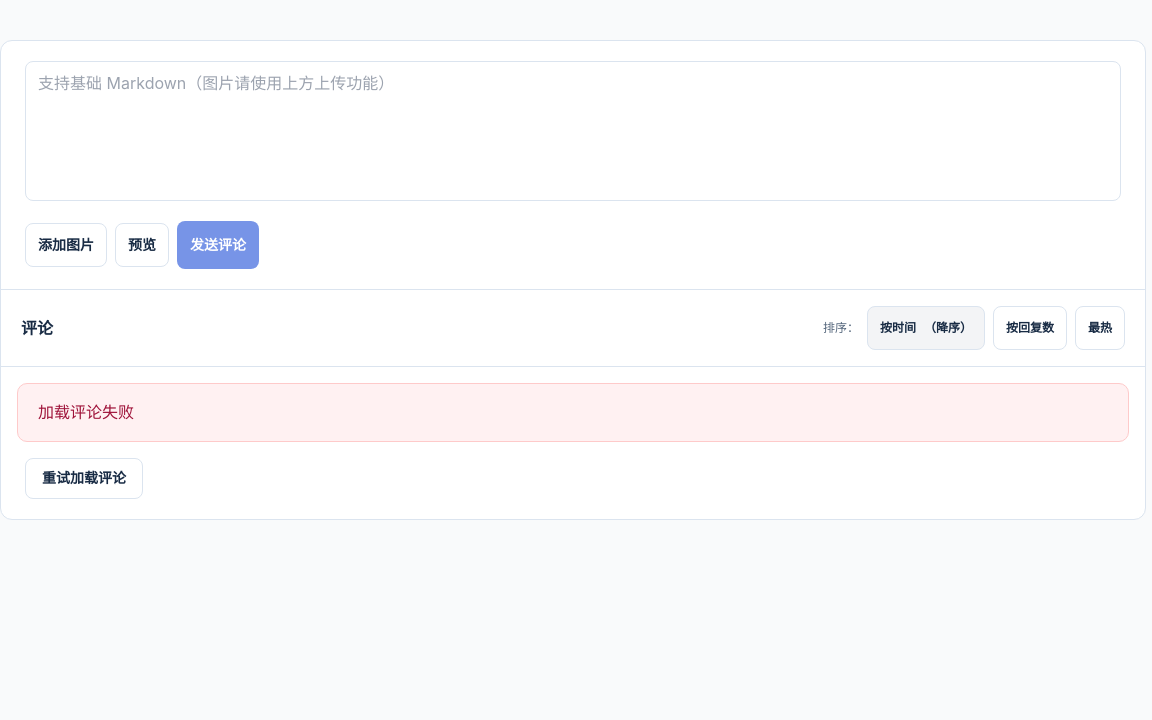
Test: Comments independent load and operation feedback › offers one load retry and restores the list after a failed page read
Click the button "重试加载评论": (84, 478) x1=25 y1=458 x2=143 y2=499
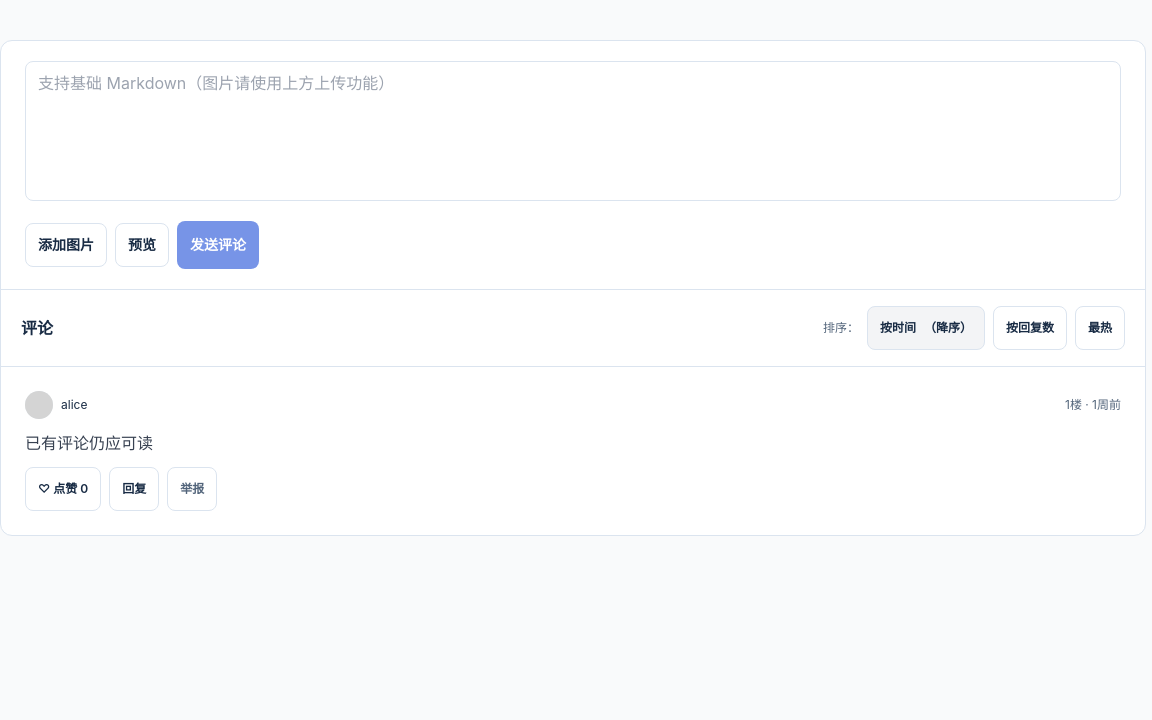
Result: the text "已有评论仍应可读" is shown at x1=25 y1=433 x2=153 y2=453
Result: the text "加载评论失败" is gone
